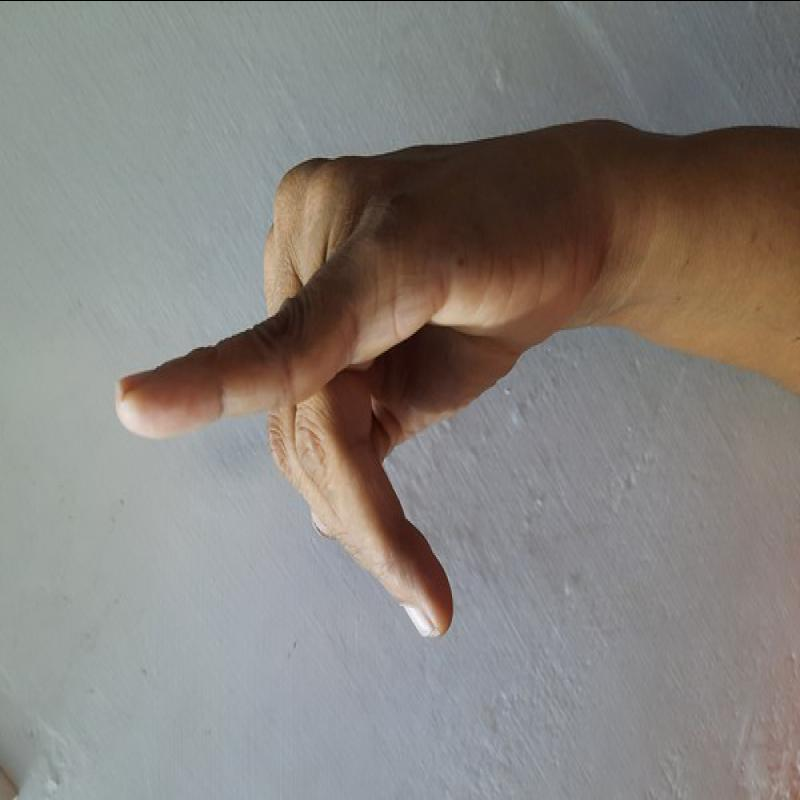Kartharee Mukham: (103, 96, 623, 656)
